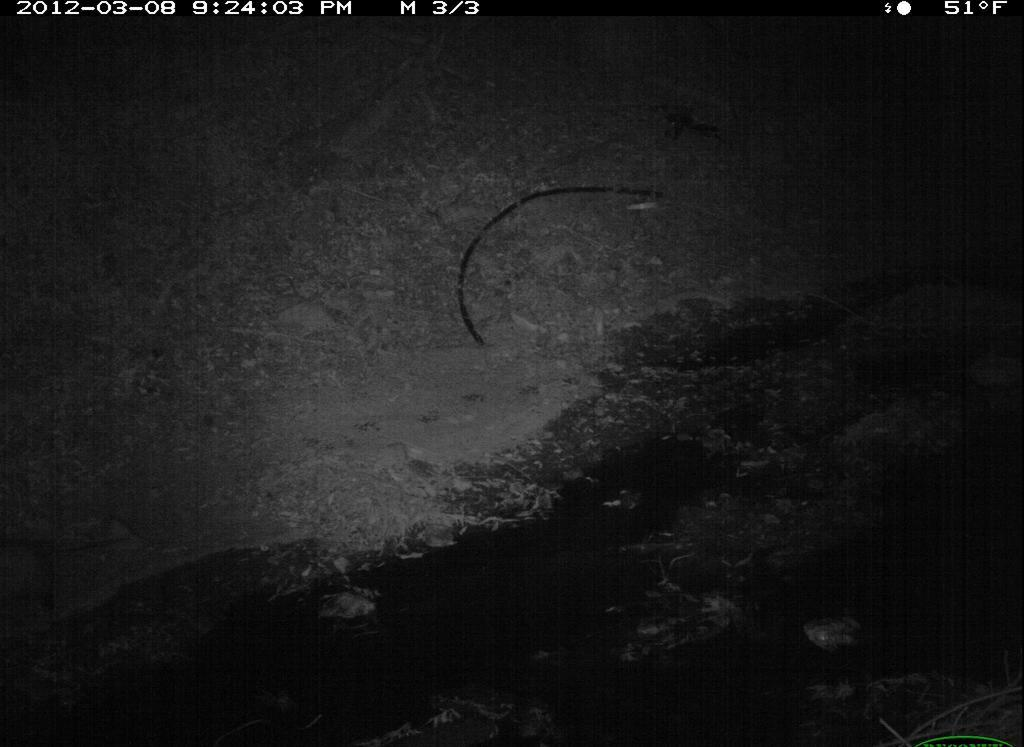opossum: (4, 526, 139, 619)
